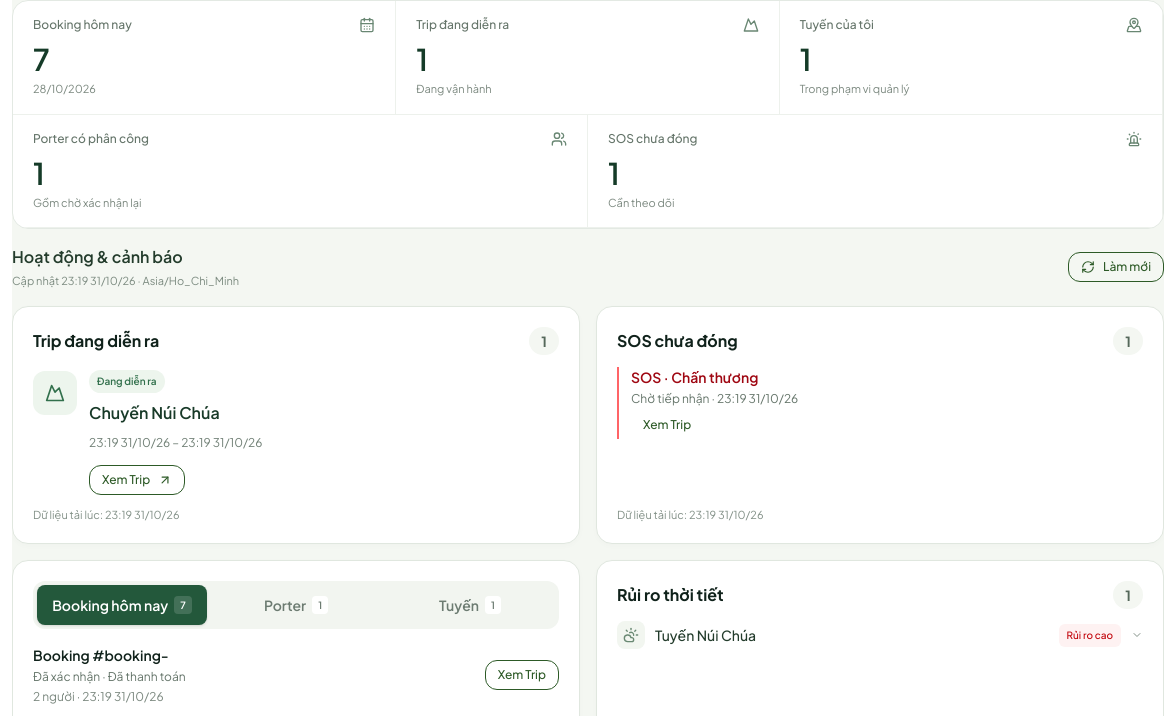
it: CTMS-378 HostDashboardOverview › retains last authorized data with an explicit stale warning if refresh fails
The image size is (1176, 716).
Click the button "Làm mới".
click(1116, 267)  # box [1068, 252, 1164, 282]
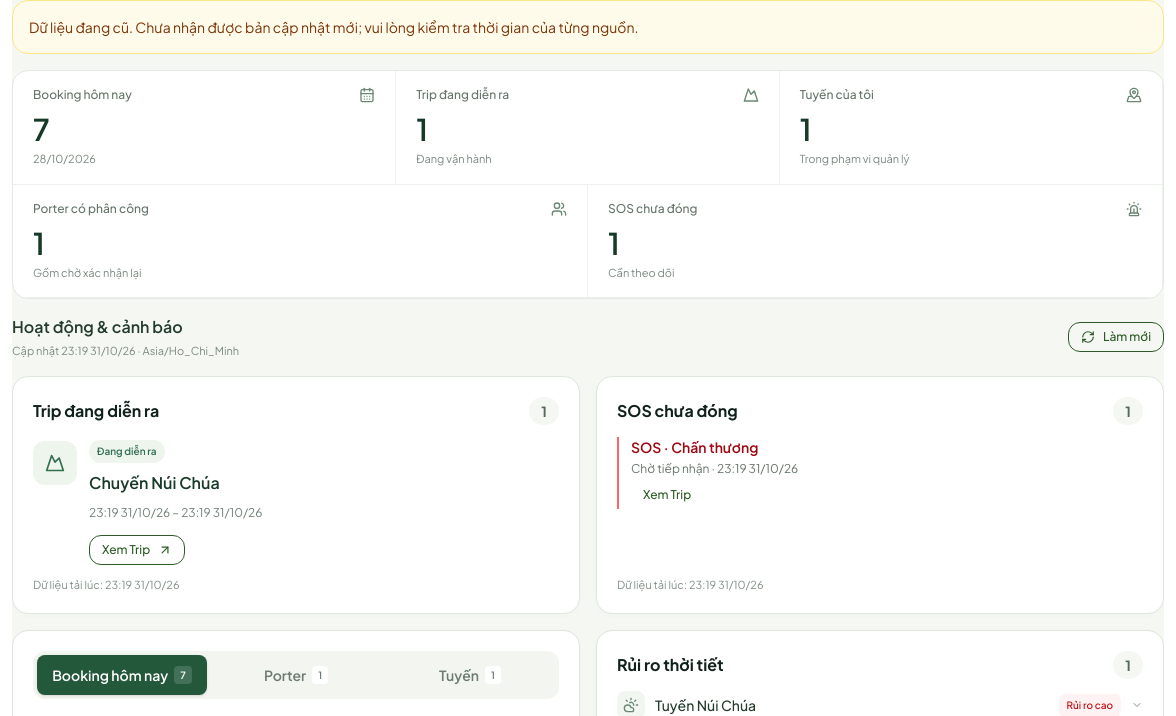
Expected: the text "Chuyến Núi Chúa" is shown, [89, 472, 220, 492]
Expected: the text "Dữ liệu đang cũ. Chưa nhận được bản cập nhật mới; vui lòng kiểm tra thời gian của từng nguồn." is shown, [29, 18, 638, 36]
